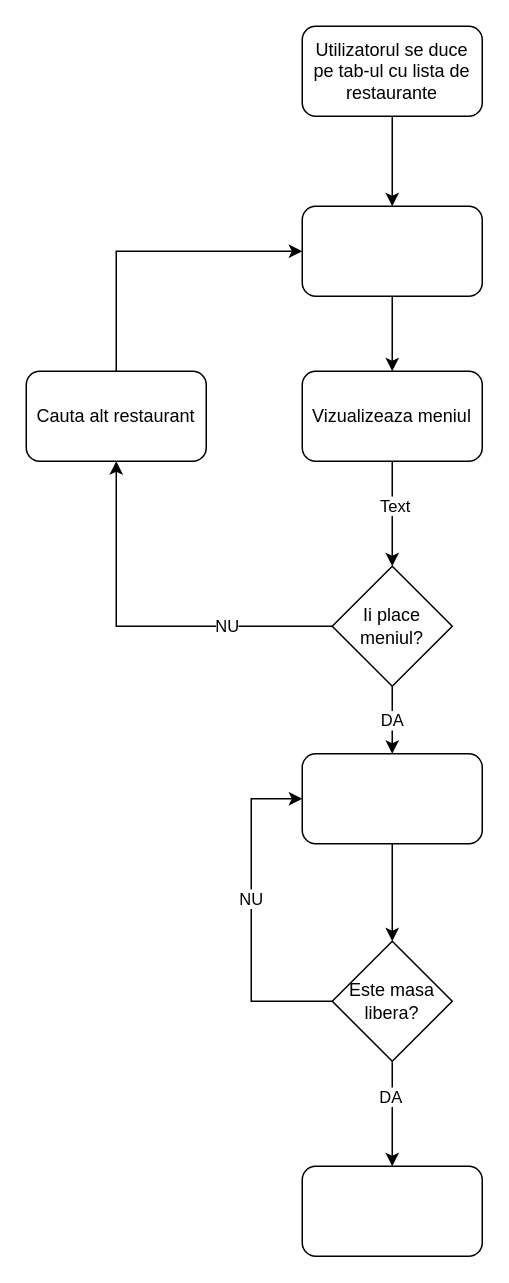
The diagram is 509 pixels wide and 1283 high, and some of its shapes have lost their labels. The shapes that lost their labels are listed below. From the top down, each one's centre as x and y in pixels, then its label:
pixel 391 250: Selecteaza restaurantul
pixel 391 798: Rezerva o masa
pixel 391 1210: Observa rezervarii pe pagina de profil
